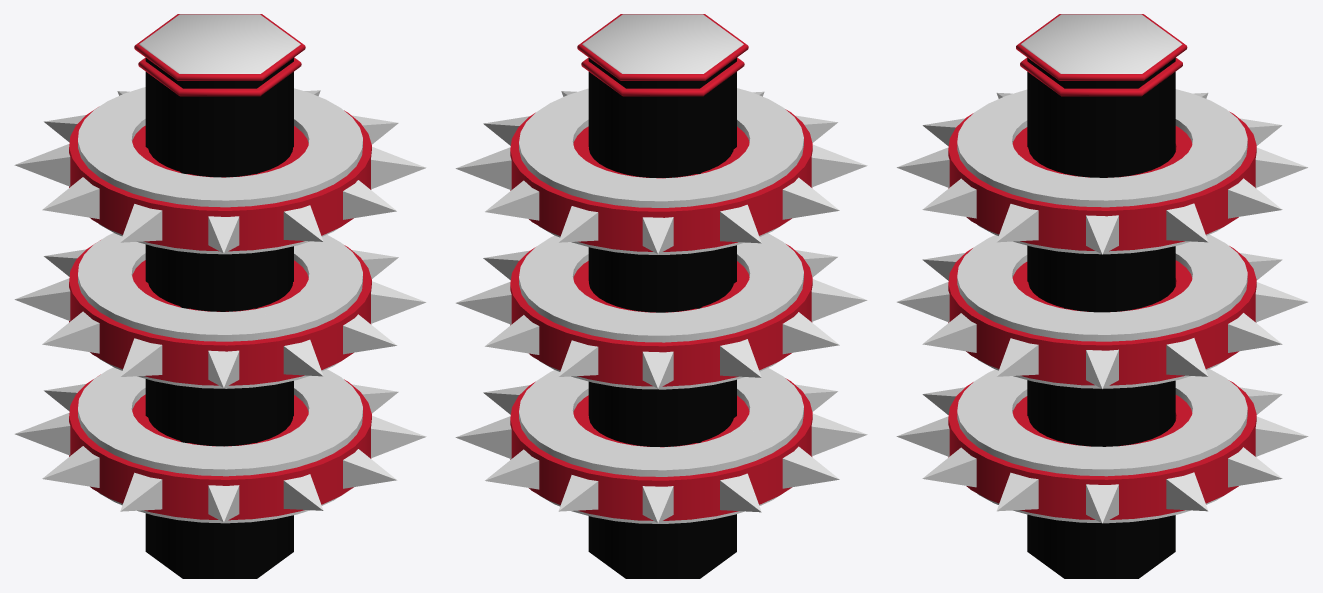
File: trap_pilier.fbx
3 renders of one model, left to right at view 1: azimuth 30°, elevation 25°; view 2: azimuth 150°, elevation 25°; view 3: azimuth 270°, elevation 25°, orthographic.
Parts seen in each view (by area): view 1: Body, Tube_1_3, Tube_1_2, Tube_1, Tube_2, Tube, Tube_3, Top, Glow, Glow_2, Pyramide_30, Pyramide_18 (+22 smaller); view 2: Body, Tube_1_3, Tube_1_2, Tube_1, Tube_2, Tube_3, Tube, Top, Glow, Glow_2, Pyramide_6, Pyramide_30 (+22 smaller); view 3: Body, Tube_1_3, Tube_1_2, Tube_1, Tube_2, Tube, Tube_3, Top, Glow, Glow_2, Pyramide_21, Pyramide_9 (+19 smaller).
Part boxes in pixels (left/top/right/bottom): Body: left=145, top=58, right=293, bottom=578; Tube_1_3: left=78, top=87, right=362, bottom=254; Tube_1_2: left=78, top=233, right=362, bottom=388; Tube_1: left=78, top=367, right=362, bottom=523; Tube_2: left=69, top=240, right=371, bottom=385; Tube: left=69, top=374, right=371, bottom=520; Tube_3: left=69, top=107, right=371, bottom=251; Top: left=139, top=14, right=300, bottom=73; Glow: left=134, top=14, right=305, bottom=80; Glow_2: left=138, top=57, right=301, bottom=96; Pyramide_30: left=42, top=177, right=99, bottom=219; Pyramide_18: left=42, top=311, right=99, bottom=353; Body: left=588, top=58, right=736, bottom=578; Tube_1_3: left=519, top=88, right=803, bottom=254; Tube_1_2: left=519, top=233, right=803, bottom=389; Tube_1: left=519, top=368, right=803, bottom=523; Tube_2: left=510, top=244, right=812, bottom=386; Tube_3: left=510, top=109, right=812, bottom=251; Tube: left=510, top=378, right=812, bottom=520; Top: left=582, top=14, right=743, bottom=73; Glow: left=577, top=14, right=748, bottom=80; Glow_2: left=581, top=57, right=744, bottom=96; Pyramide_6: left=782, top=446, right=839, bottom=488; Pyramide_30: left=782, top=177, right=839, bottom=219; Body: left=1027, top=58, right=1175, bottom=578; Tube_1_3: left=957, top=89, right=1247, bottom=254; Tube_1_2: left=957, top=234, right=1247, bottom=388; Tube_1: left=957, top=369, right=1247, bottom=523; Tube_2: left=948, top=246, right=1256, bottom=385; Tube: left=948, top=380, right=1256, bottom=519; Tube_3: left=948, top=111, right=1256, bottom=251; Top: left=1021, top=14, right=1182, bottom=73; Glow: left=1016, top=14, right=1187, bottom=80; Glow_2: left=1020, top=57, right=1182, bottom=96; Pyramide_21: left=1228, top=313, right=1282, bottom=352; Pyramide_9: left=1228, top=447, right=1282, bottom=487.
Bounding box in the file's own units: 111 × 151 × 111.
